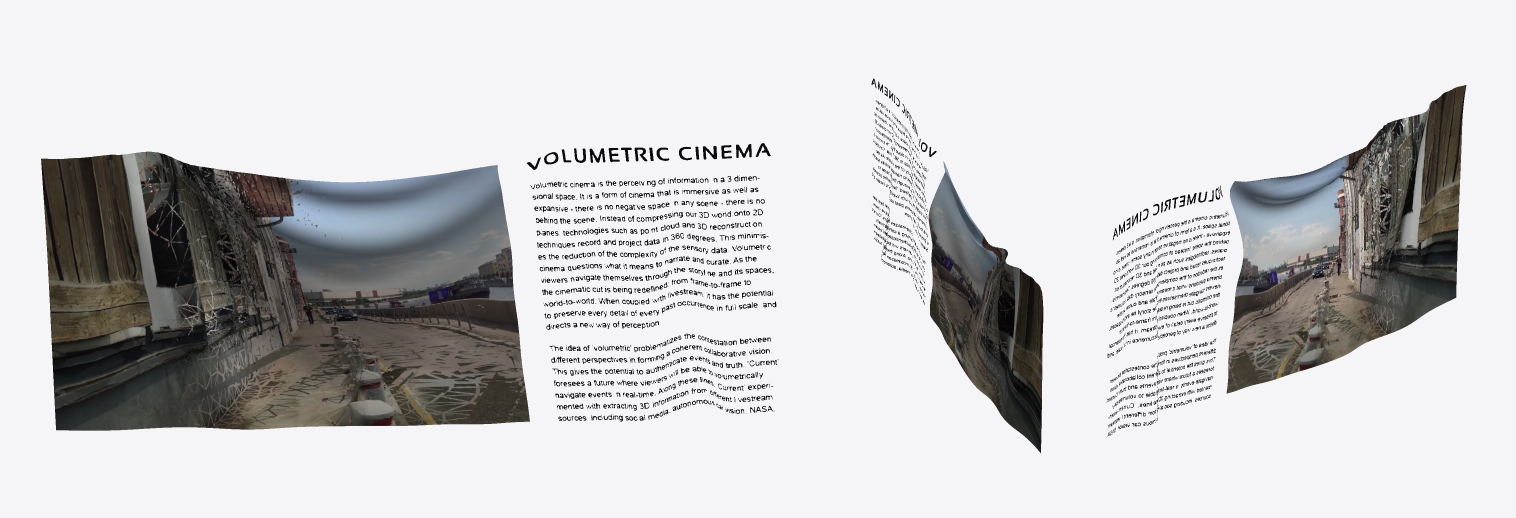
File: TRANSPERENT-HORIZONTAL1920X1080.obj
The picture shows the model from 3 angles, left to right: view 1: azimuth 30°, elevation 25°; view 2: azimuth 150°, elevation 25°; view 3: azimuth 270°, elevation 25°; orthographic projection. The views are drawn at different scales.
Parts seen in each view (by area): view 1: pPlane6; view 2: pPlane6; view 3: pPlane6.
Part boxes in pixels (x1,y1,x2,y2): pPlane6: [41, 143, 778, 430]; pPlane6: [871, 78, 1043, 452]; pPlane6: [1106, 85, 1466, 436].
Bounding box in the file's own units: 3.01 × 2.65 × 2.5.
